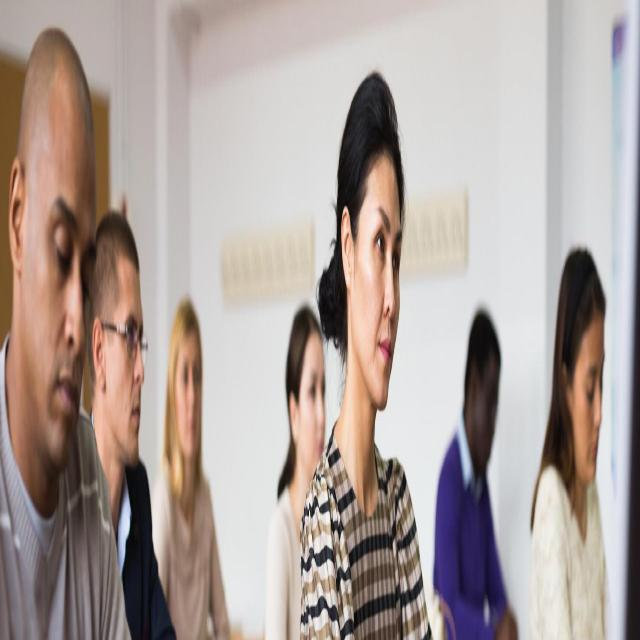adult: (1, 29, 131, 640), (298, 74, 431, 640), (87, 206, 176, 640), (532, 240, 614, 640), (435, 312, 517, 640), (154, 304, 230, 640), (271, 307, 328, 640)
